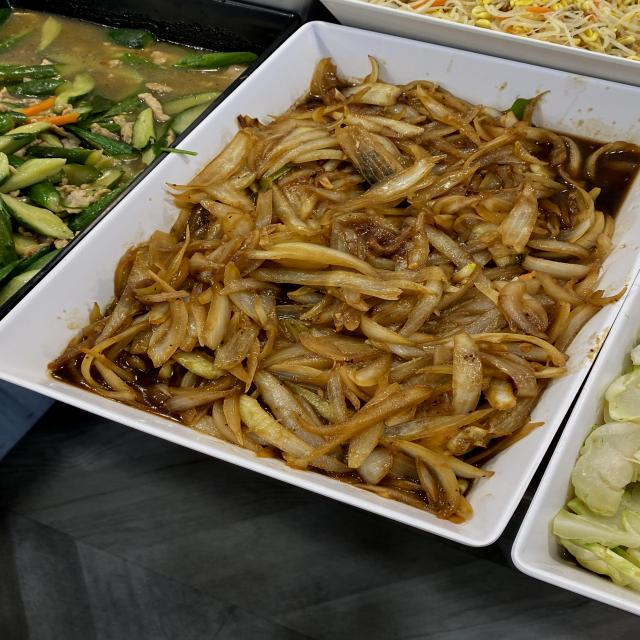Fried onions: (233, 132, 526, 420)
